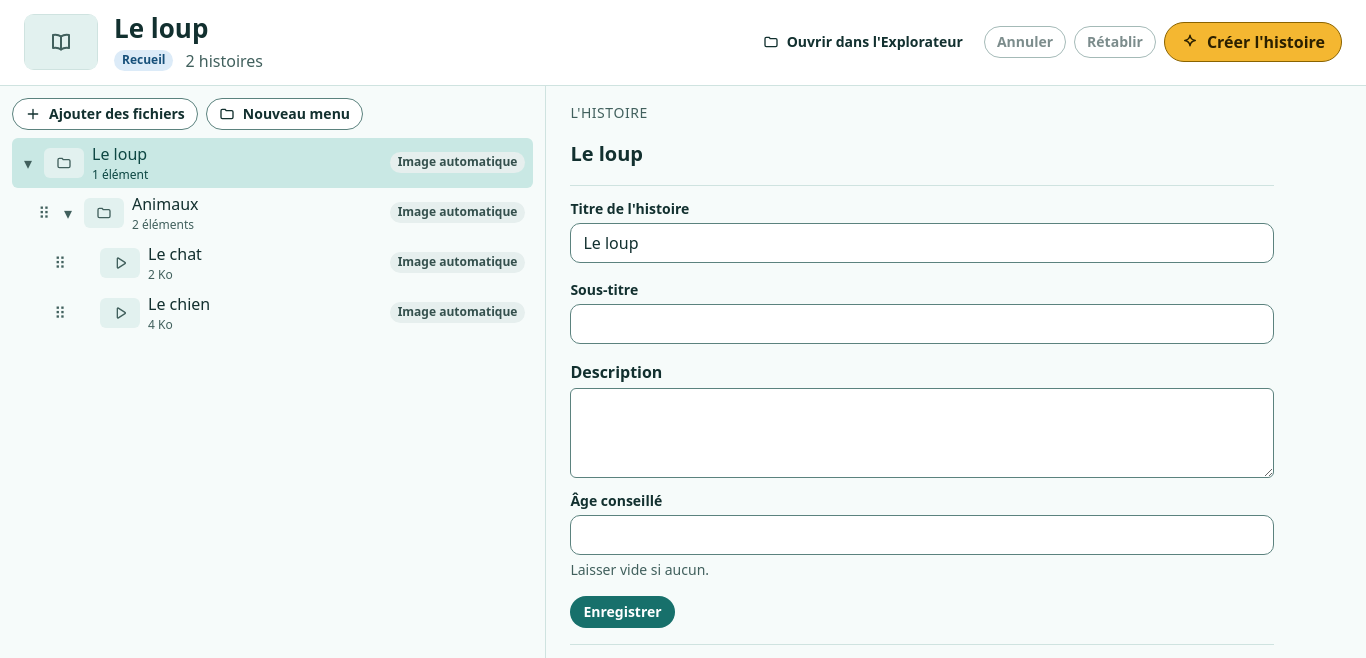
Test: pointeur : relâché hors de l'arbre, rien ne bouge
Press the mouse on the text "⠿" next to "Le chien": {"x": 60, "y": 312} [54,302,66,324]
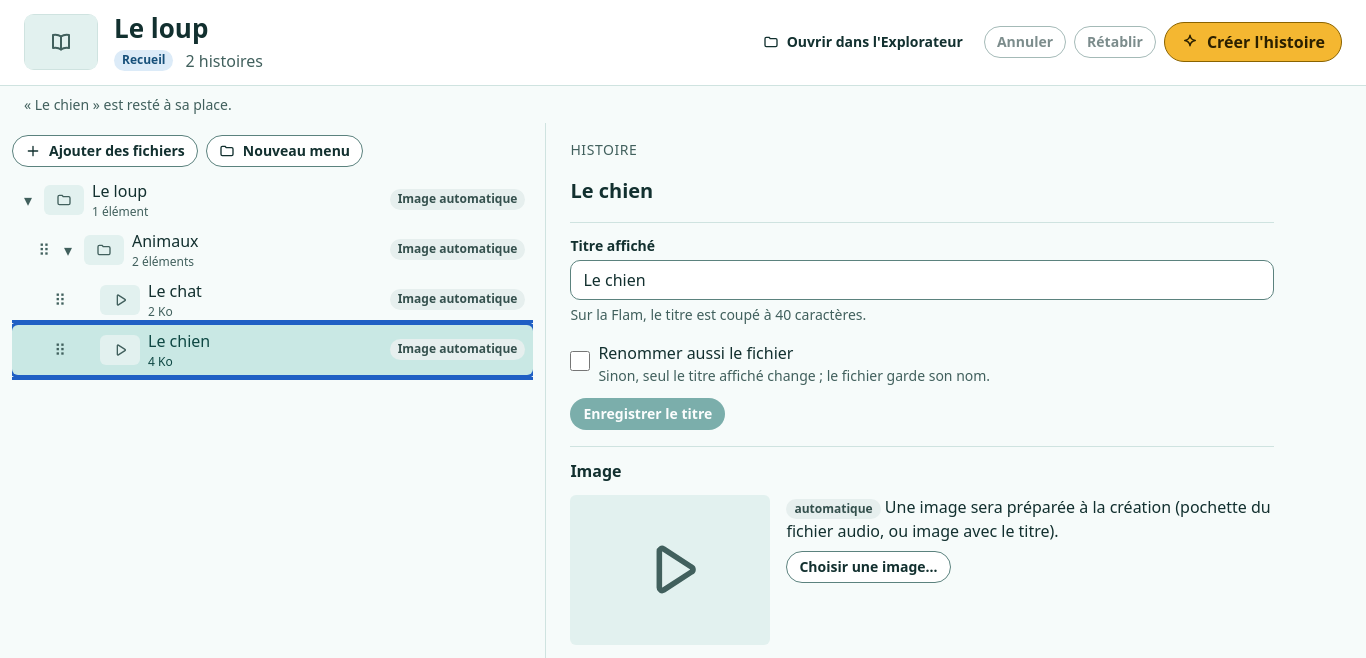
expect the message with class "fl-editor__status" reads "« Le chien » est resté à sa place.": met, box [24,94,232,114]
